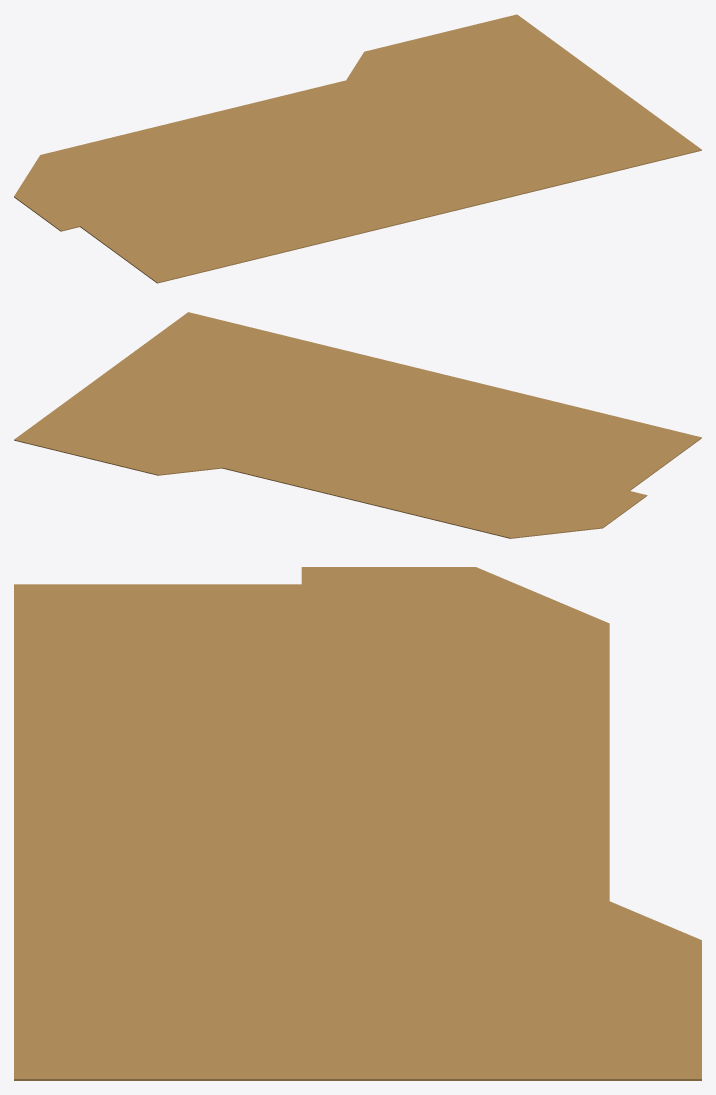
3 renders of one model, top to bottom at view 1: azimuth 30°, elevation 25°; view 2: azimuth 150°, elevation 25°; view 3: azimuth 270°, elevation 25°, orthographic. The views are drawn at different scales.
Parts seen in each view (by area): view 1: shape; view 2: shape; view 3: shape.
Part boxes in pixels (<box>): shape: <box>14,14,701,283</box>; shape: <box>14,312,701,538</box>; shape: <box>14,567,701,1080</box>.
Bounding box in the file's own units: 11.8 × 0.02 × 6.7.
